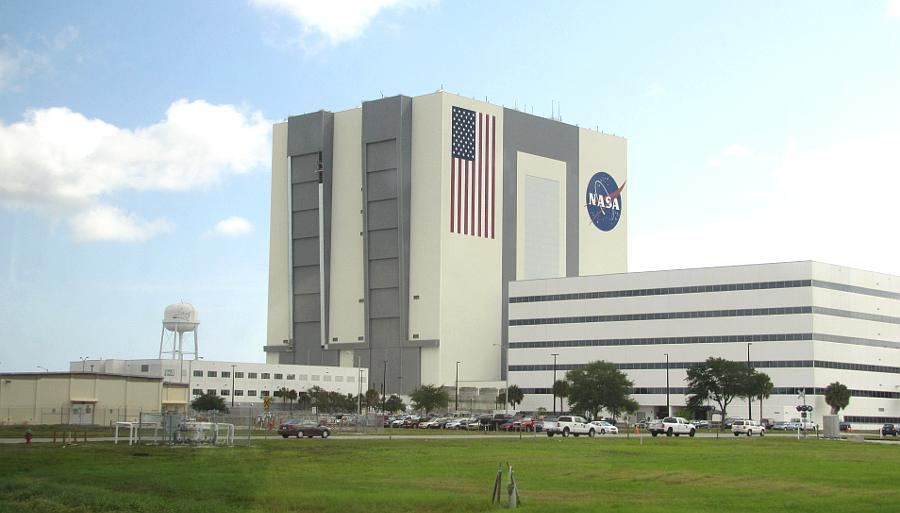NASA: (584, 172, 627, 233)
